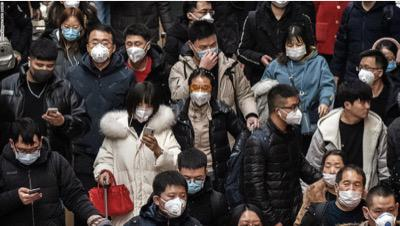mask_weared_incorrect: (322, 160, 344, 187)
with_mask: (160, 190, 189, 219), (337, 178, 365, 208), (88, 37, 112, 63), (28, 61, 55, 84), (13, 143, 39, 166), (368, 205, 397, 225), (188, 82, 212, 106), (179, 172, 205, 194), (124, 38, 146, 63), (194, 40, 219, 61), (132, 99, 154, 122), (284, 101, 304, 126), (284, 40, 307, 61), (59, 22, 82, 42), (357, 62, 375, 86), (193, 7, 216, 24), (384, 54, 397, 74)
without_mask: (352, 98, 372, 119)
